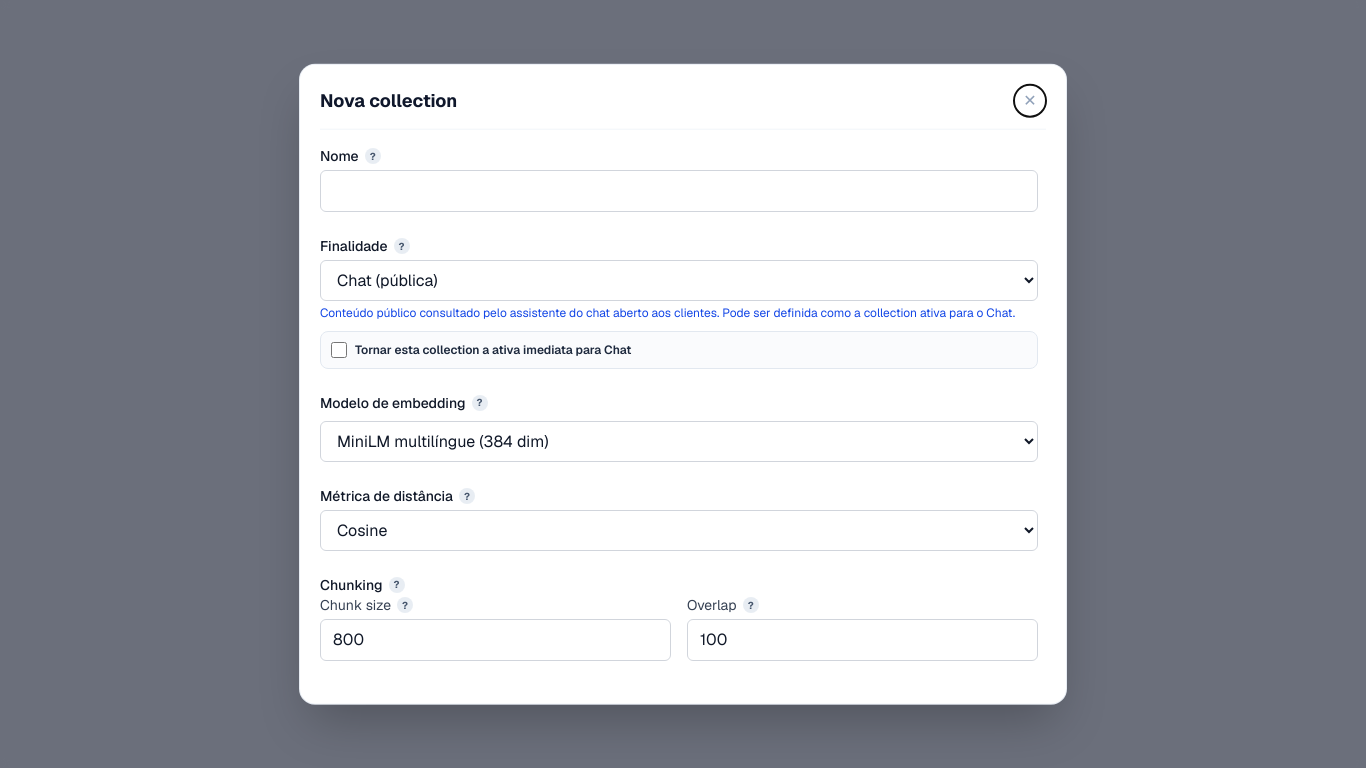
CollectionFormModal › exibe erro da API quando a criação falha (ex.: nome duplicado)
This screenshot has width=1366, height=768.
In the field labelled "Nome": (679, 191) [320,170,1038,212], type "nova"
(page scrolled)
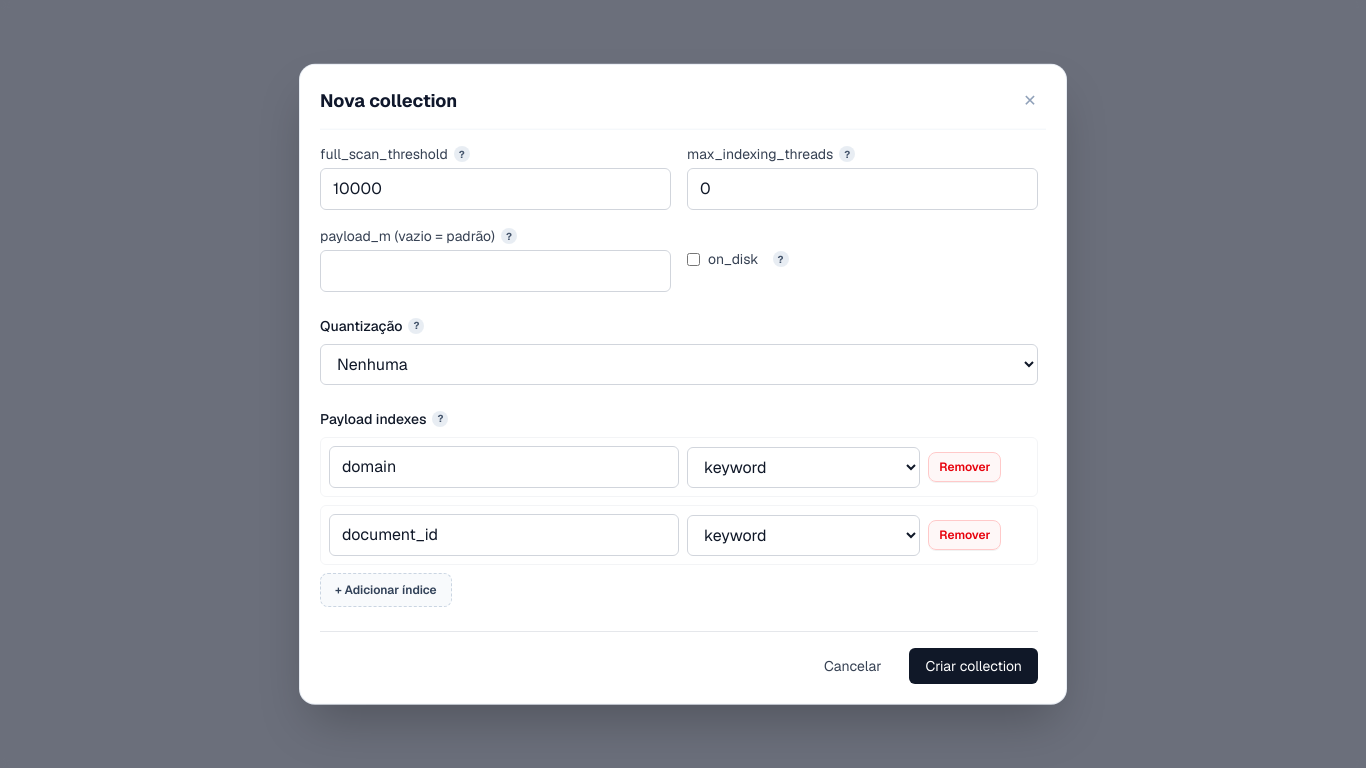
Click the button "Criar collection": (974, 666) [909,648,1038,684]
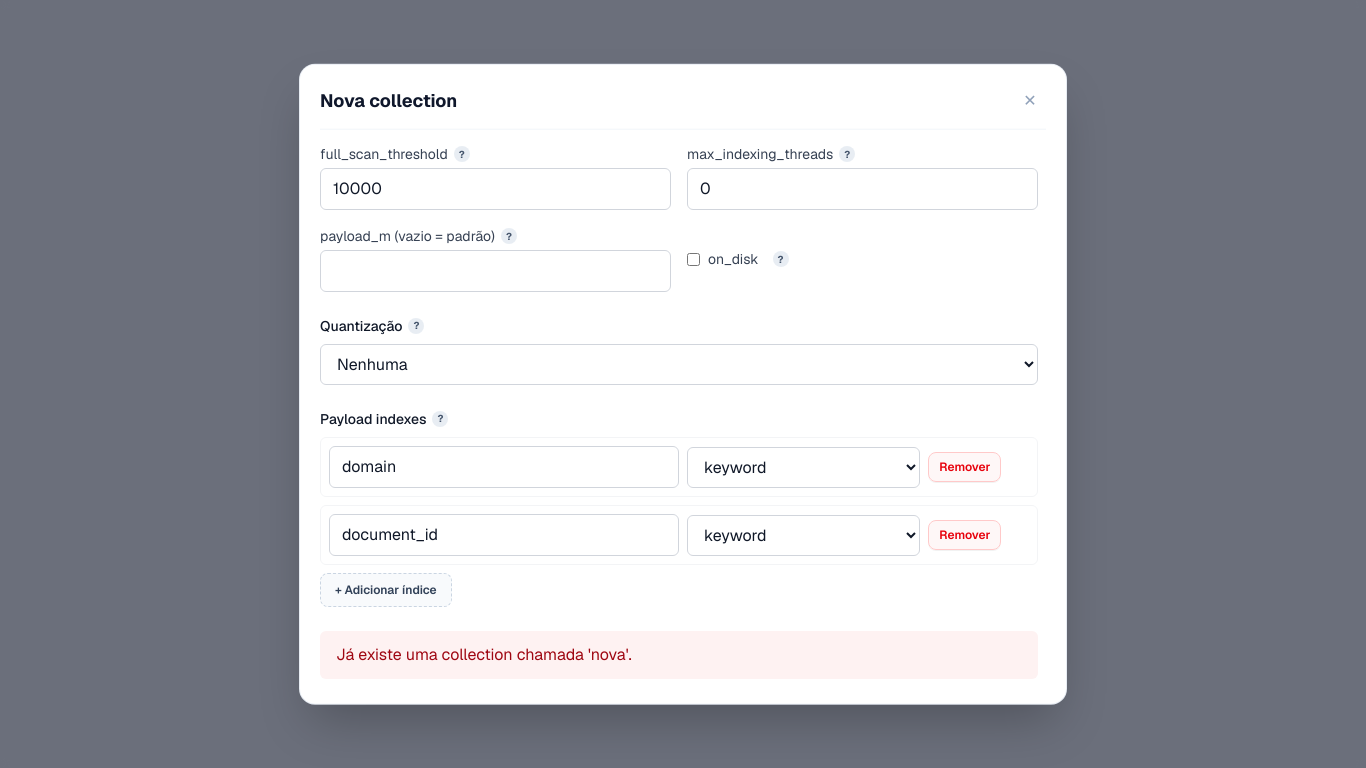
Result: the text "Já existe uma collection chamada 'nova'." is shown at [320,631,1038,679]
